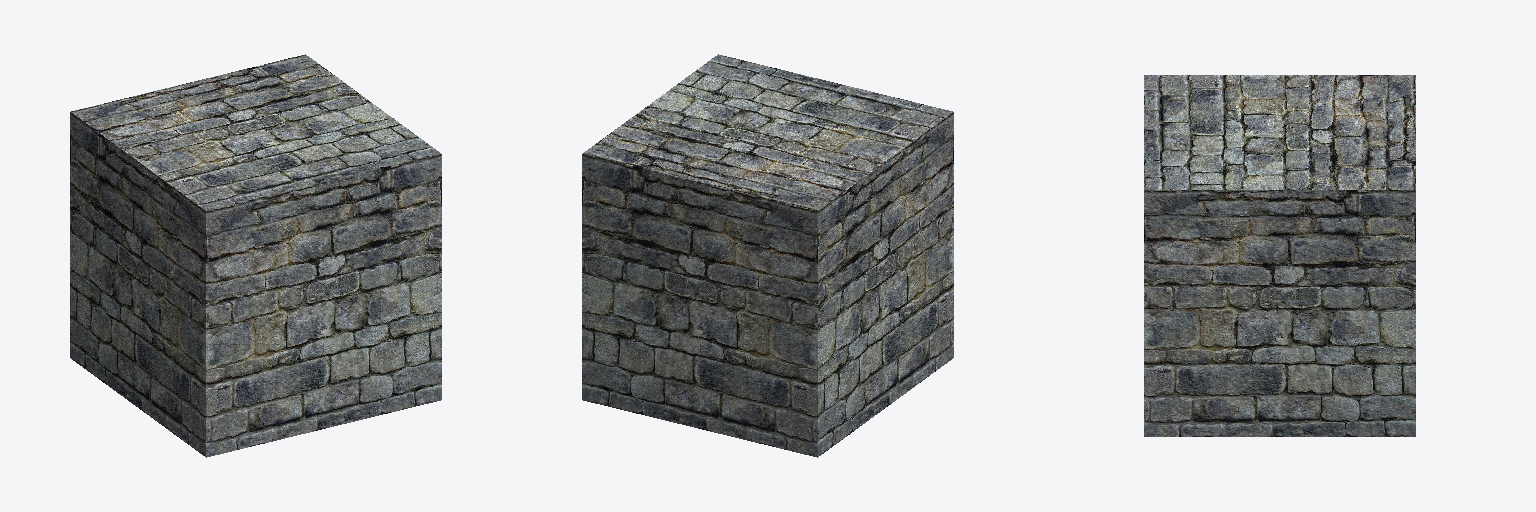
The picture shows the model from 3 angles: view 1: azimuth 30°, elevation 25°; view 2: azimuth 150°, elevation 25°; view 3: azimuth 270°, elevation 25°; orthographic projection.
Bounding box in the file's own units: 2 × 2 × 2.
1 materials, 1 textured.